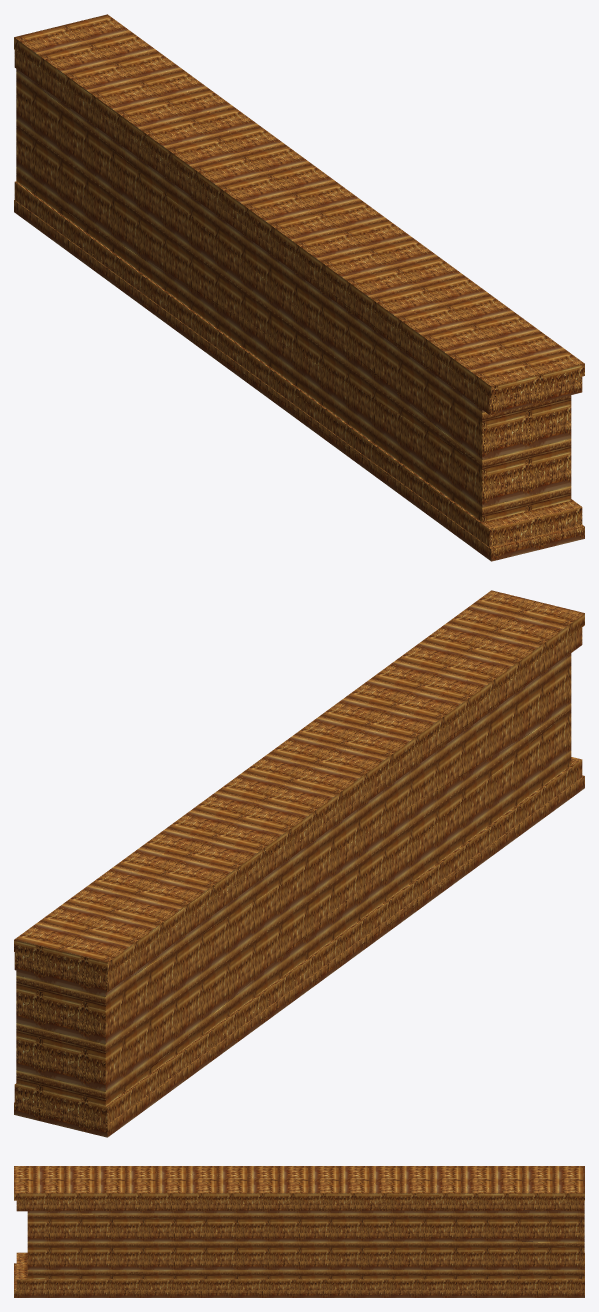
Rendered from UpperCeilingDecor 1.fbx.
The picture shows the model from 3 angles, top to bottom: view 1: azimuth 30°, elevation 25°; view 2: azimuth 150°, elevation 25°; view 3: azimuth 270°, elevation 25°; orthographic projection. The views are drawn at different scales.
Parts seen in each view (by area): view 1: Box026; view 2: Box026; view 3: Box026.
Boxes of the visible parts, <box> form: Box026: <box>14,14,584,561</box>; Box026: <box>14,590,584,1137</box>; Box026: <box>14,1166,584,1297</box>.
Size of the model in its own units: 655 by 1171 by 5789.
